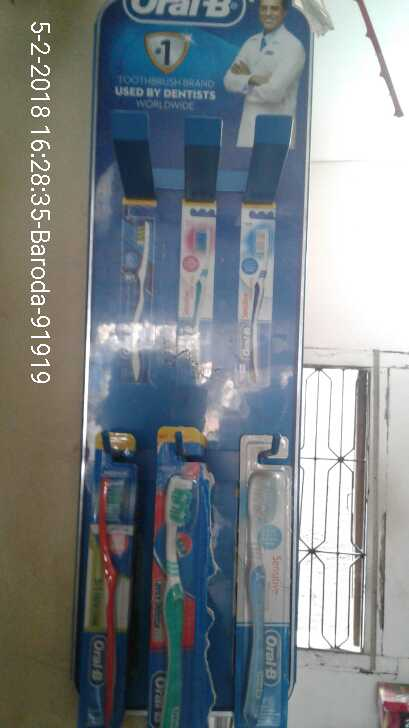oralb: (76, 432, 130, 728), (237, 466, 292, 728), (159, 473, 207, 728)
